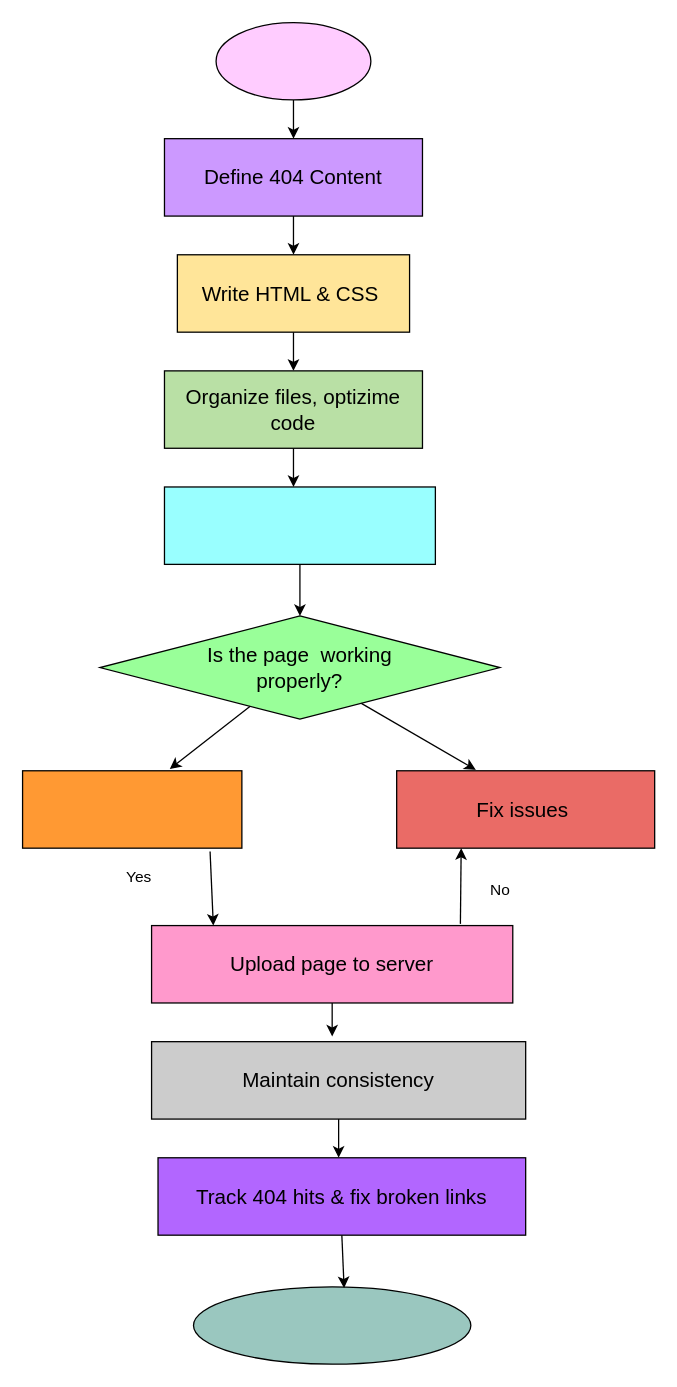
Image size: 677x1387. Some labels were removed from this diagram. Here are the shapes that lost their labels. From the top down, the box of each, then its label:
(215, 21, 371, 100): Start
(163, 486, 435, 564): Check display & responsiveness
(21, 769, 242, 848): Release Approve Merge code
(192, 1285, 471, 1364): Stop
